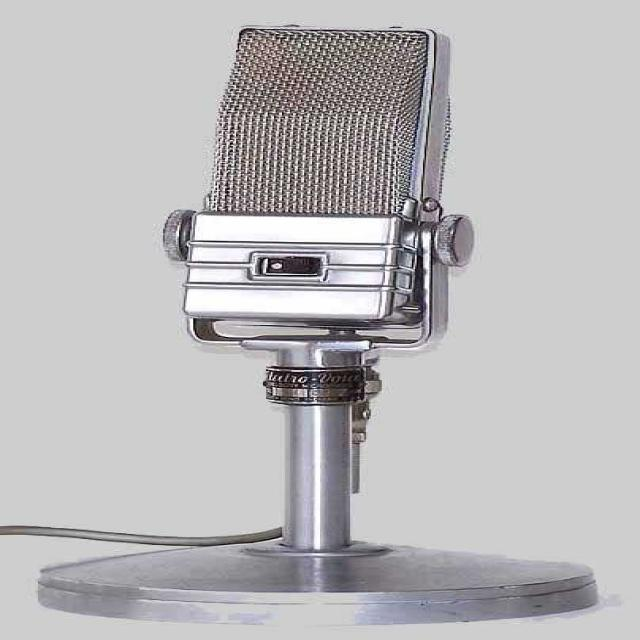microphone: (139, 26, 500, 420)
